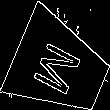M_SE: (31, 36, 89, 99)
